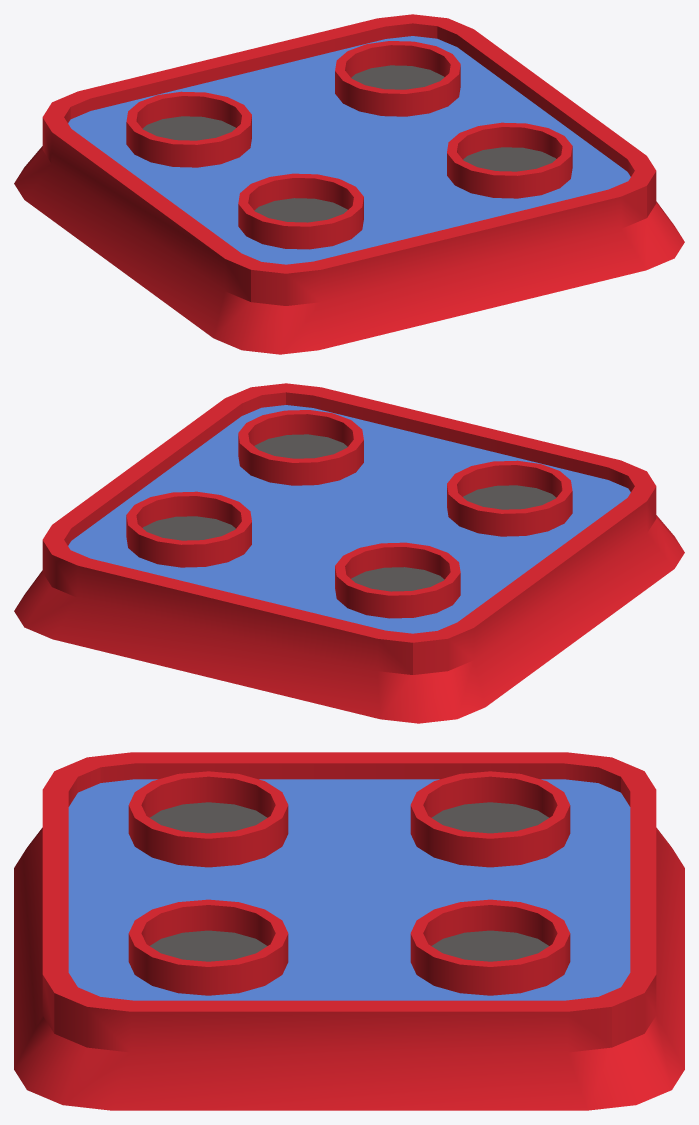
Rendered from Obstacle 26 V1.fbx.
3 renders of one model, top to bottom at view 1: azimuth 30°, elevation 25°; view 2: azimuth 150°, elevation 25°; view 3: azimuth 270°, elevation 25°, orthographic. The views are drawn at different scales.
Visible parts, largest first — view 1: 06 Part 1; view 2: 06 Part 1; view 3: 06 Part 1.
Part boxes in pixels (box(x1,y1,x2,y2)): 06 Part 1: box(14, 14, 684, 354); 06 Part 1: box(14, 383, 684, 723); 06 Part 1: box(14, 752, 684, 1110).
Size of the model in its own units: 125 by 20.4 by 125.
1 material, 1 textured.
